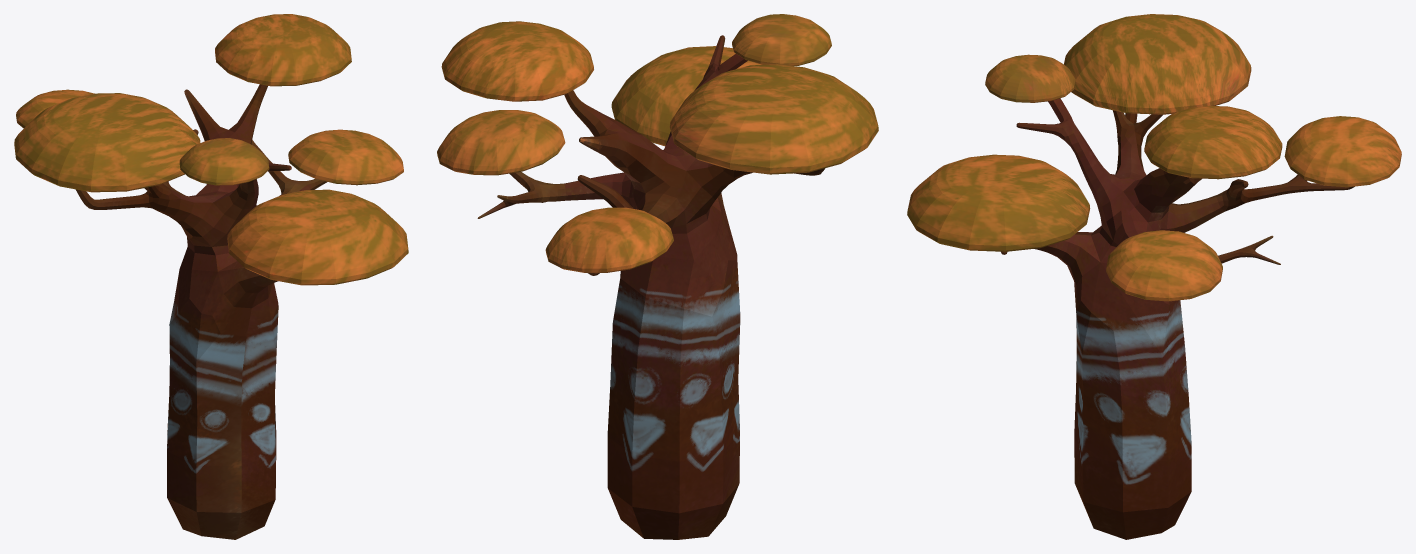
The model's file is TreeBig.fbx.
The picture shows the model from 3 angles, left to right: view 1: azimuth 30°, elevation 25°; view 2: azimuth 150°, elevation 25°; view 3: azimuth 270°, elevation 25°; orthographic projection. The views are drawn at different scales.
Visible parts, largest first — view 1: polySurface8; view 2: polySurface8; view 3: polySurface8.
Boxes of the visible parts, <box> form: polySurface8: <box>14,14,408,539</box>; polySurface8: <box>437,14,878,539</box>; polySurface8: <box>907,14,1401,539</box>.
Bounding box in the file's own units: 5.69 × 6.64 × 6.41.
